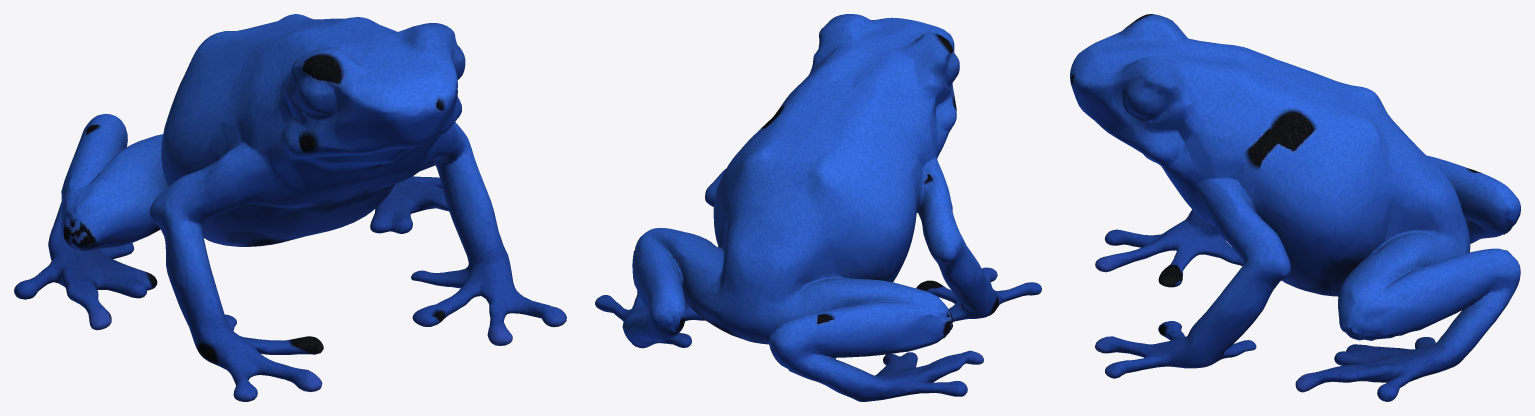
Rendered from dartfrog-cobalt_clean.glb.
The picture shows the model from 3 angles, left to right: view 1: azimuth 30°, elevation 25°; view 2: azimuth 150°, elevation 25°; view 3: azimuth 270°, elevation 25°; orthographic projection. The views are drawn at different scales.
Visible parts, largest first — view 1: dartfrog:cobalt_clean; view 2: dartfrog:cobalt_clean; view 3: dartfrog:cobalt_clean.
Boxes of the visible parts, box(x1,y1,x2,y2) form: dartfrog:cobalt_clean: box(14, 14, 566, 401); dartfrog:cobalt_clean: box(595, 14, 1041, 401); dartfrog:cobalt_clean: box(1070, 14, 1520, 401).
Bounding box in the file's own units: 0.0432 × 0.028 × 0.0421.
Materials: 1 (1 with a texture image).
